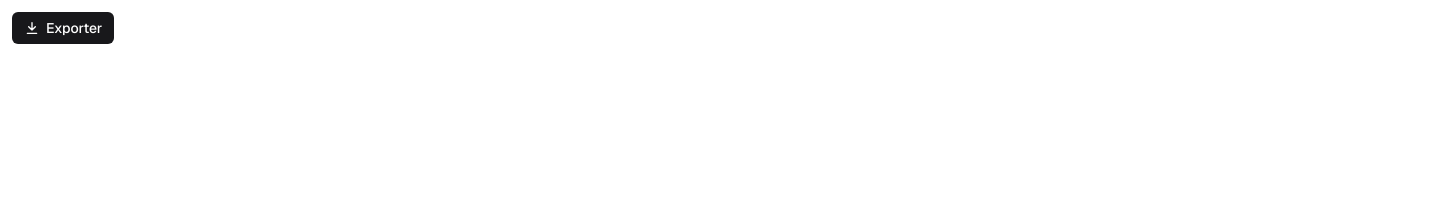
Test: export menu › exports the whole chapter as PDF
Click the button "Exporter".
click(63, 28)  # box left=12, top=12, right=114, bottom=44
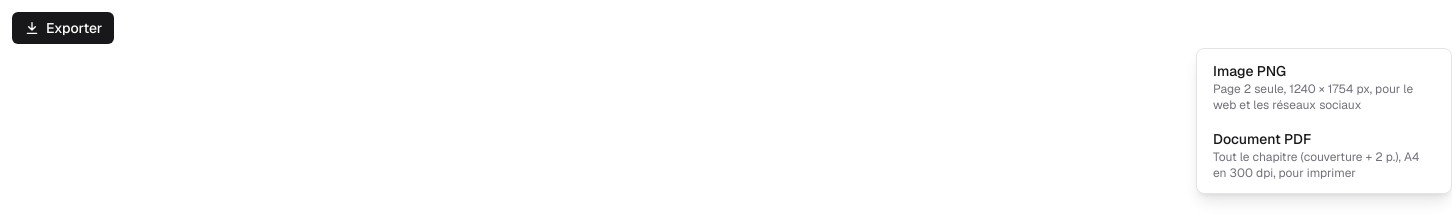
Check: the menu named "Exporter la planche" is shown, box left=1196, top=48, right=1451, bottom=194
Click the menu item that starts with "Document PDF".
click(1324, 155)  # box left=1201, top=121, right=1447, bottom=189
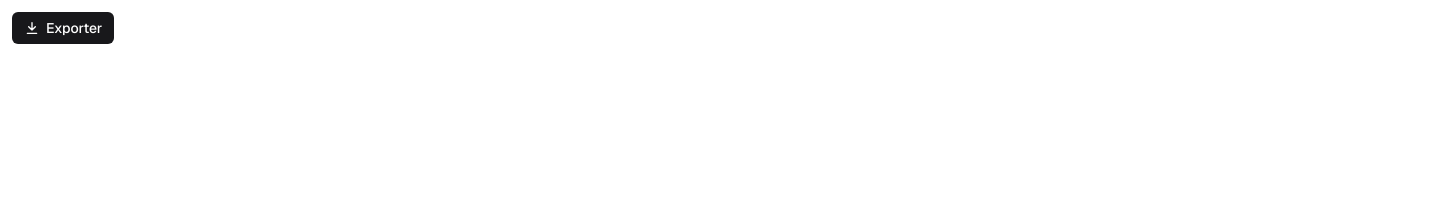
Check: the menu is gone
